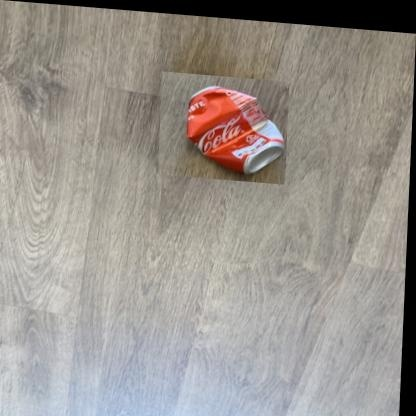trash: (187, 86, 284, 173)
